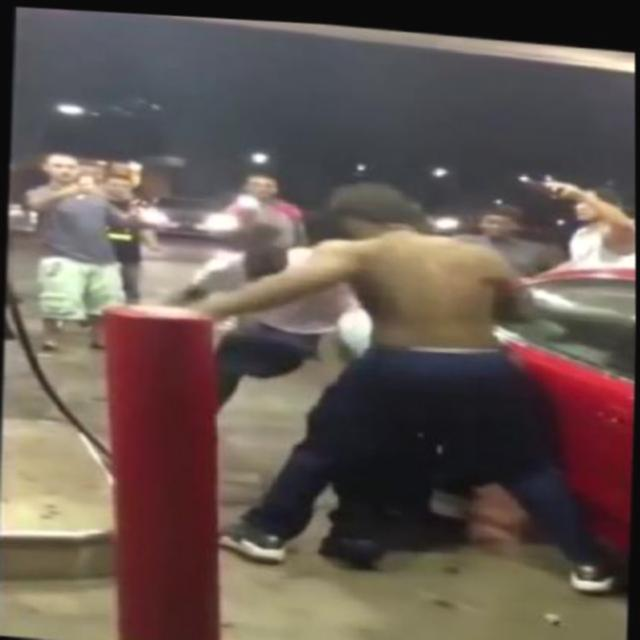fight: (172, 153, 638, 596)
